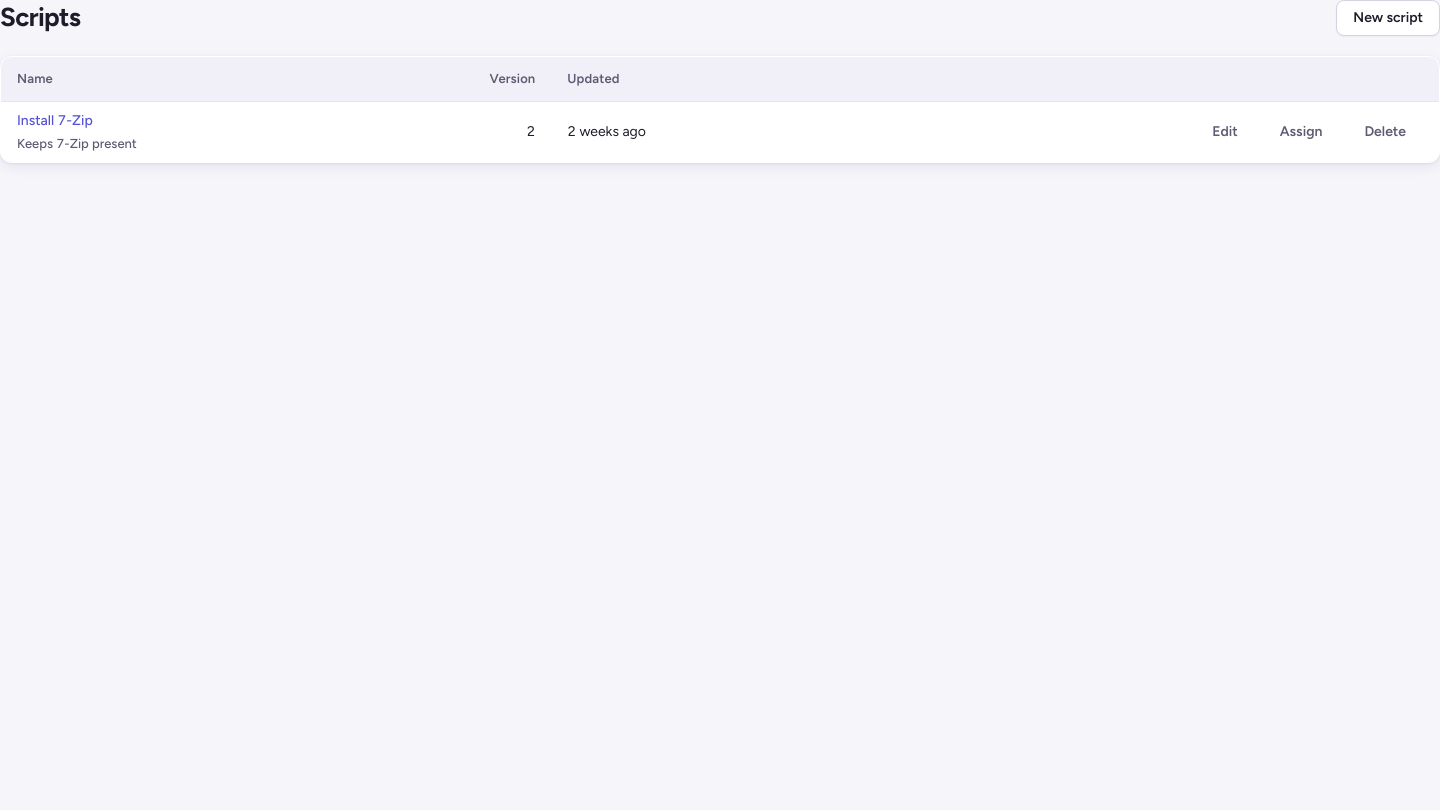
Scenario: Scripts › explains what running as the signed-in user means
Expected: the button "Install 7-Zip" is shown, [17, 110, 93, 132]
Click the button "Assign".
click(1301, 132)  # box [1263, 114, 1339, 150]
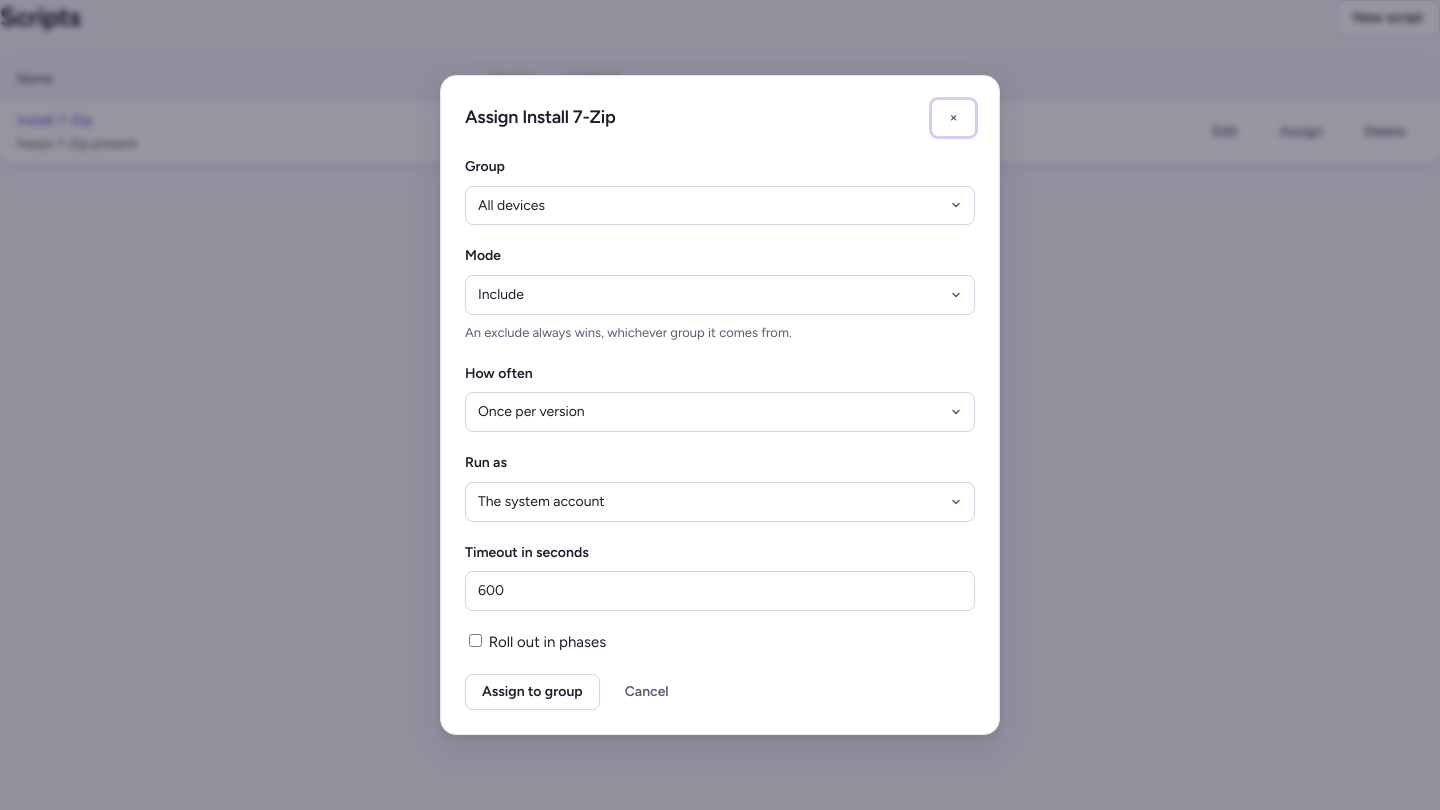
Result: the dropdown labelled "Run as" is shown
Select "The signed-in user" in the dropdown labelled "Run as" at (720, 502), box [465, 482, 975, 522]
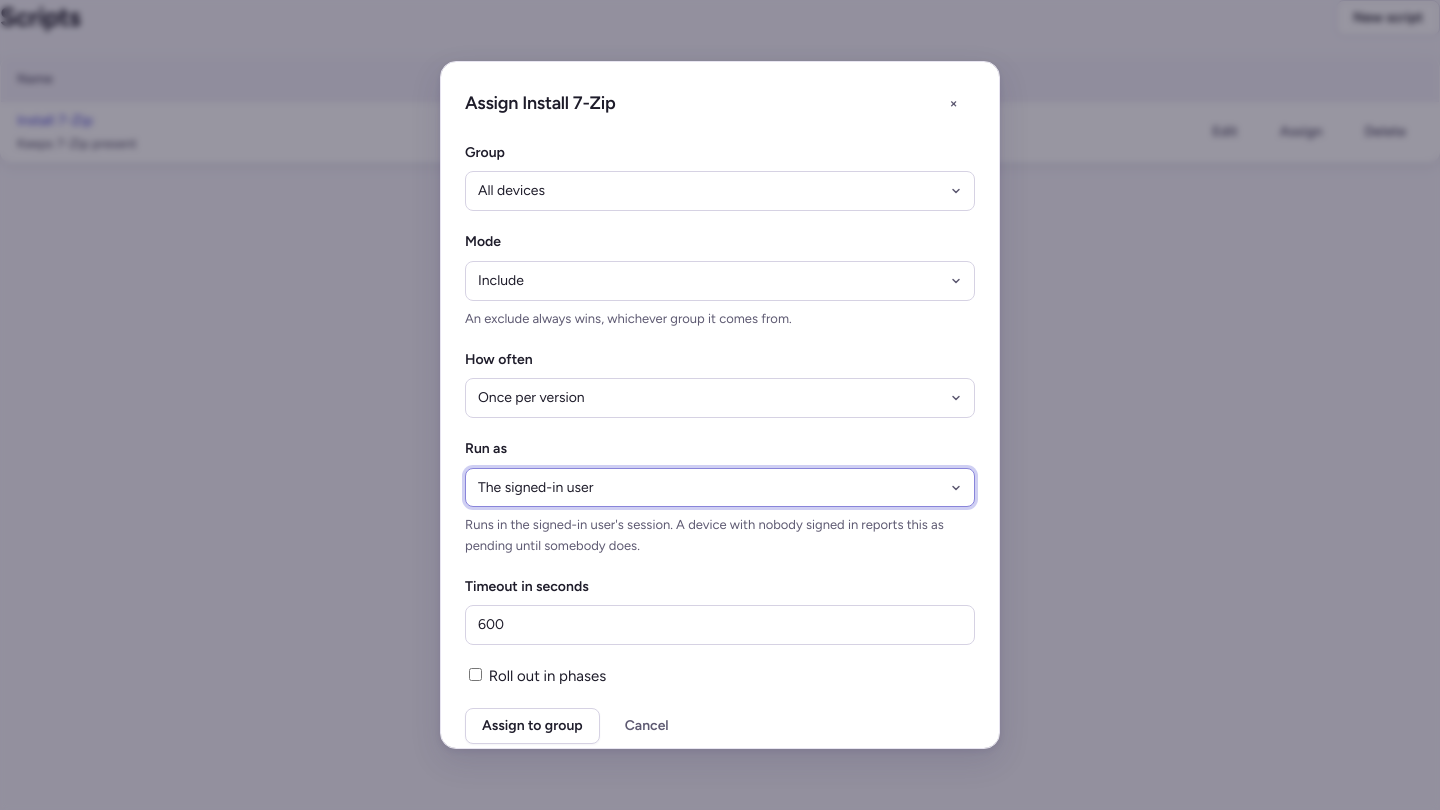
Result: the text "nobody signed in reports this as pending" is shown at [465, 517, 944, 552]
